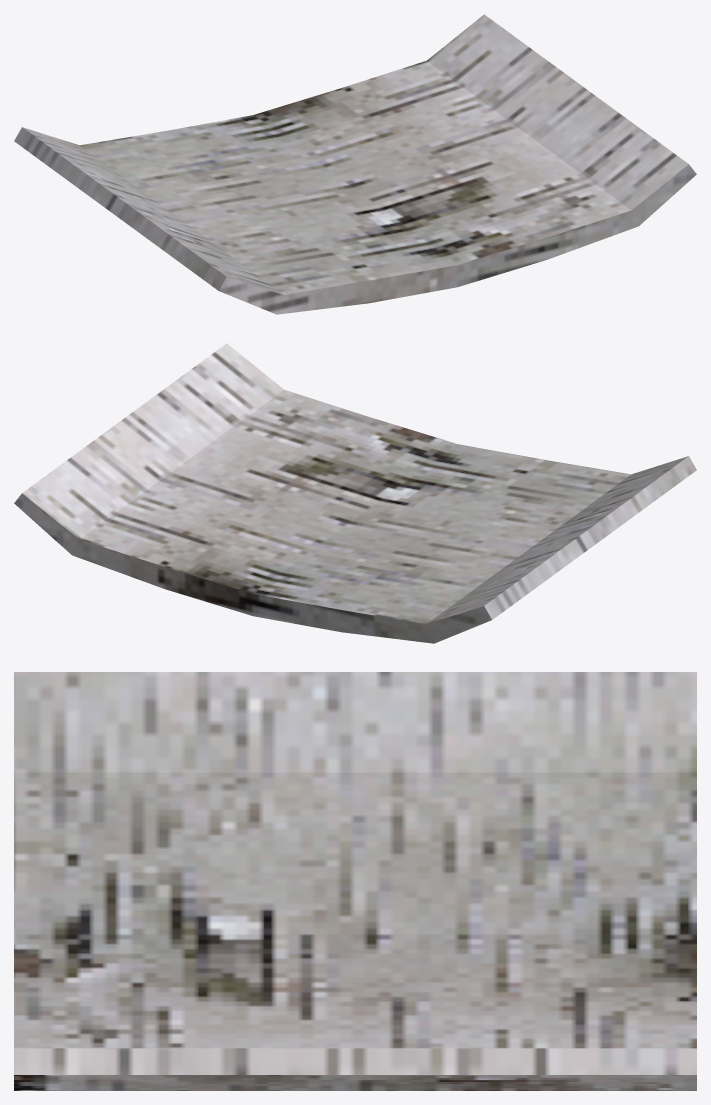
File: item_birch_bark.fbx
3 views of the same model, one above another, from view 1: azimuth 30°, elevation 25°; view 2: azimuth 150°, elevation 25°; view 3: azimuth 270°, elevation 25° (orthographic). The views are drawn at different scales.
Visible parts, largest first — view 1: item_birch_bark; view 2: item_birch_bark; view 3: item_birch_bark.
Boxes of the visible parts, x1=… form: item_birch_bark: x1=14, y1=14, x2=696, y2=314; item_birch_bark: x1=14, y1=343, x2=696, y2=643; item_birch_bark: x1=14, y1=672, x2=696, y2=1090.
Bounding box in the file's own units: 5.12 × 3.8 × 0.6832.
